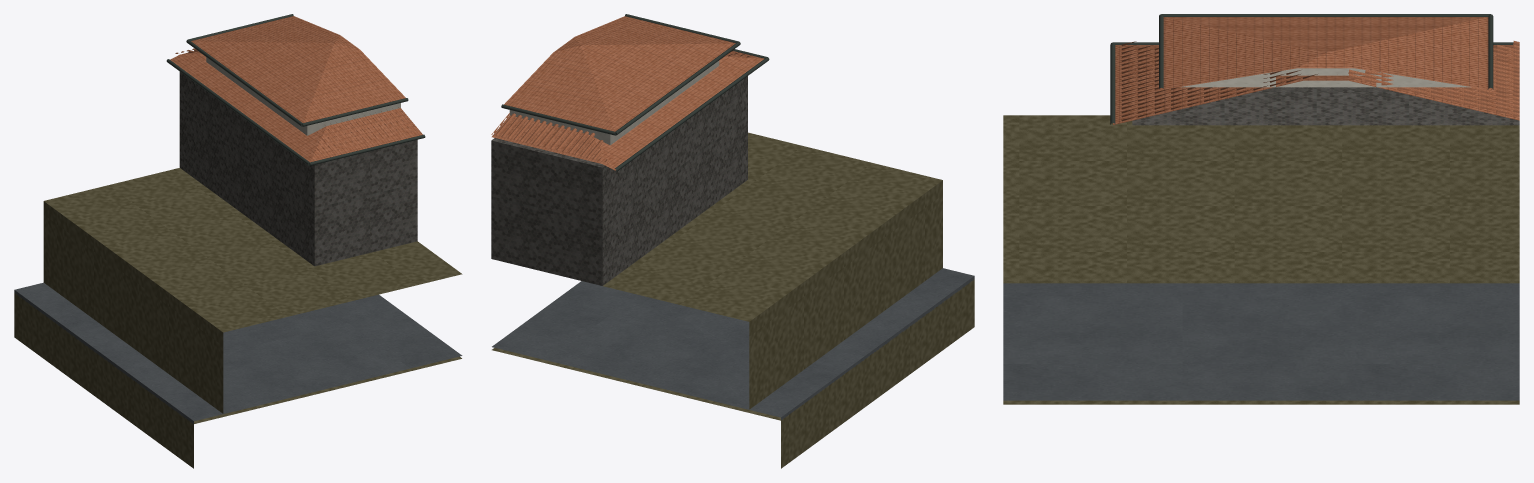
3 renders of one model, left to right at view 1: azimuth 30°, elevation 25°; view 2: azimuth 150°, elevation 25°; view 3: azimuth 270°, elevation 25°, orthographic. The views are drawn at different scales.
Bounding box in the file's own units: 13.8 × 13.85 × 16.
Materials: 6 (5 with a texture image).
